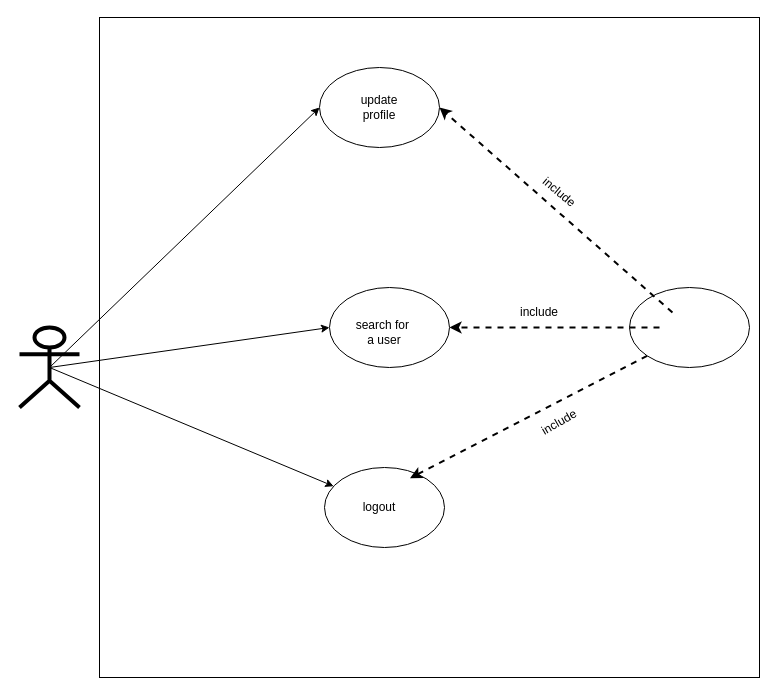
Some shapes in this 777 by 695 pixel diagram are drawn without their labels. Each missing label, with the box of its shape:
Client: (17, 325, 81, 409)
s'authentifier: (628, 286, 750, 368)
